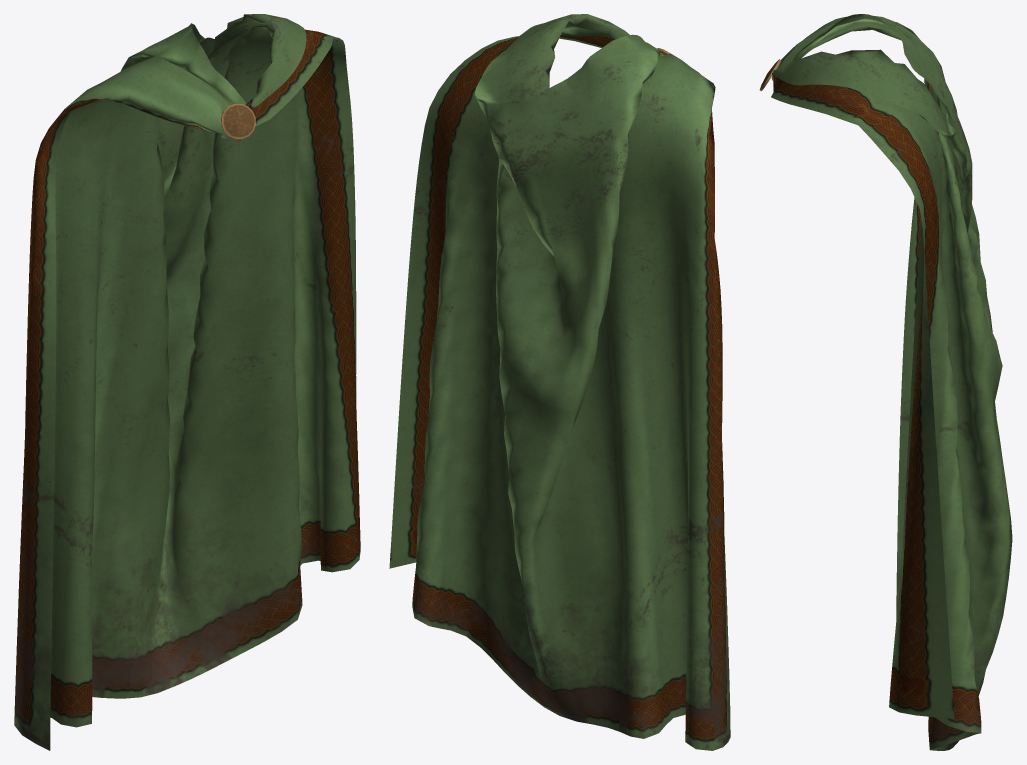
File: cts_roha_cape1.fbx
3 views of the same model, side by side, from view 1: azimuth 30°, elevation 25°; view 2: azimuth 150°, elevation 25°; view 3: azimuth 270°, elevation 25° (orthographic). The views are drawn at different scales.
Parts seen in each view (by area): view 1: cts_roha_cape1; view 2: cts_roha_cape1; view 3: cts_roha_cape1.
Boxes of the visible parts, left/top/right/bottom form: cts_roha_cape1: left=14, top=14, right=360, bottom=750; cts_roha_cape1: left=389, top=14, right=730, bottom=750; cts_roha_cape1: left=759, top=14, right=1012, bottom=750.
Bounding box in the file's own units: 0.6866 × 0.4249 × 1.34.
1 material, 1 textured.
